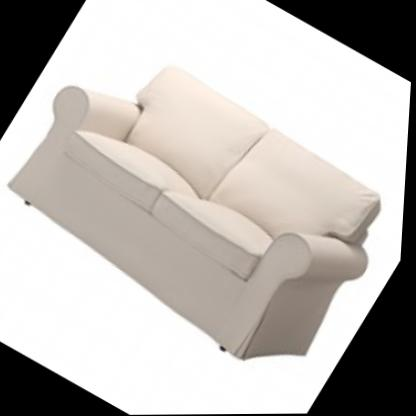Sofa: (0, 0, 416, 405)
